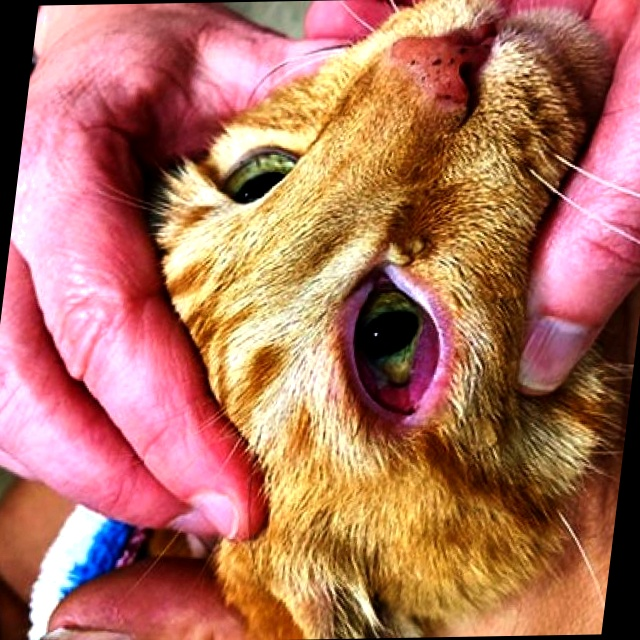eye_infection: (325, 271, 448, 427)
